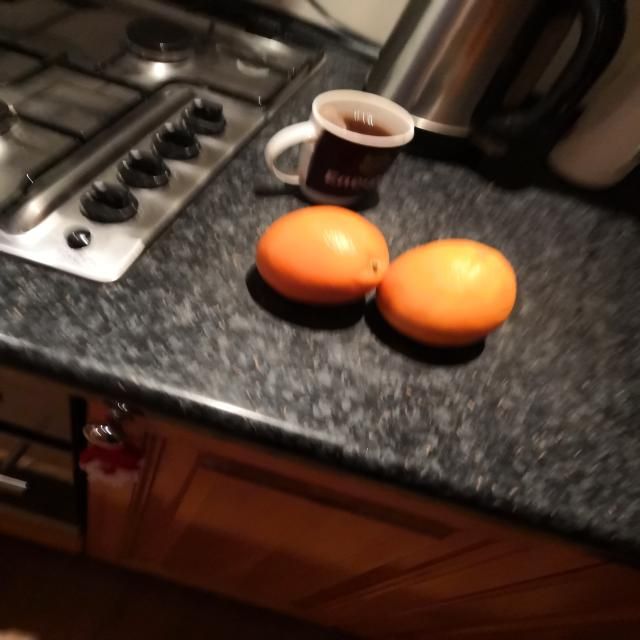orange: (377, 239, 517, 346), (257, 205, 388, 305)
